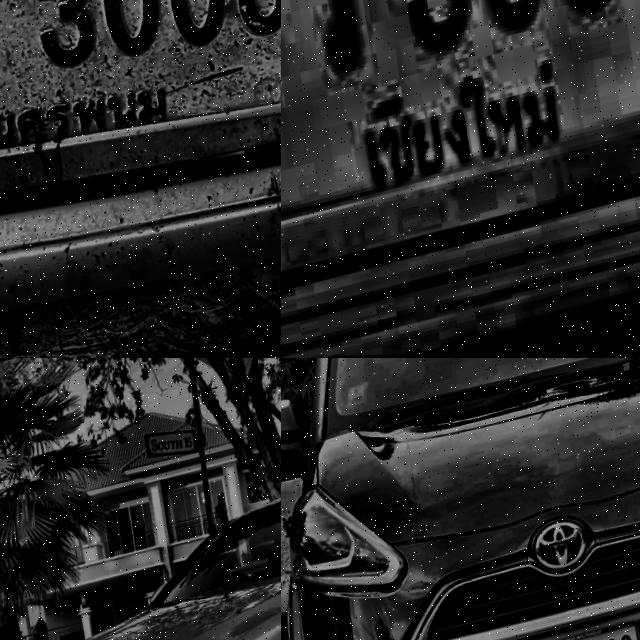license-plate: (281, 0, 640, 327), (0, 0, 281, 350)
